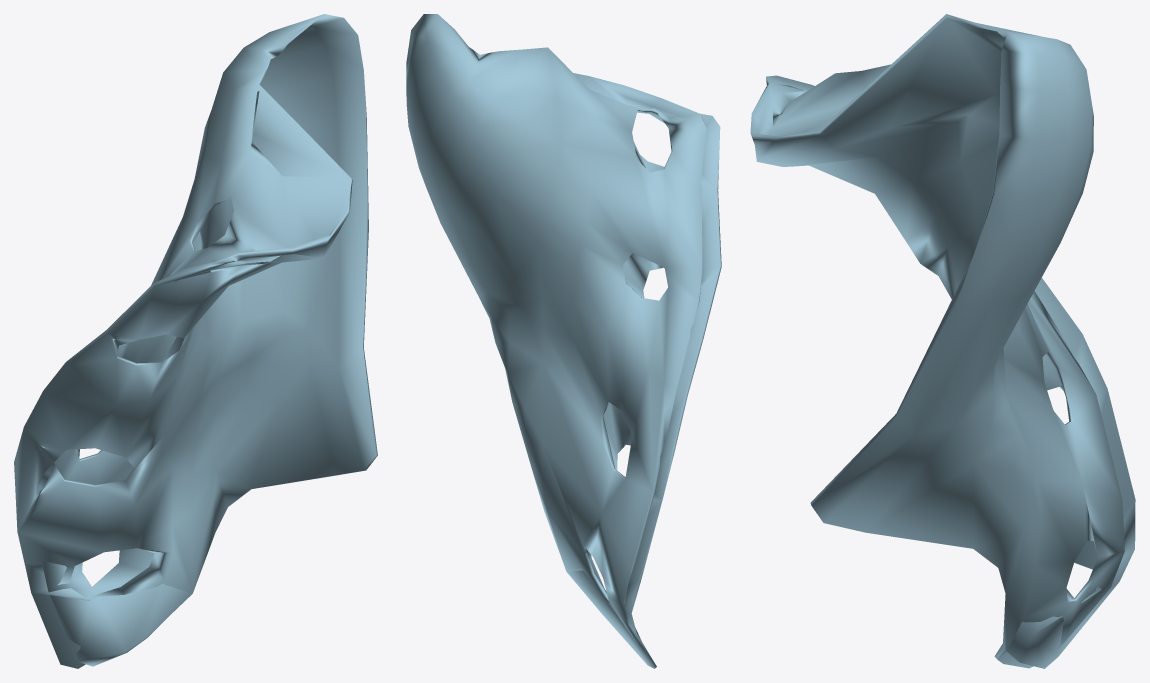
Rendered from articulacoes-posterior-sacro-iliac-ligament-l.glb.
3 views of the same model, side by side, from view 1: azimuth 30°, elevation 25°; view 2: azimuth 150°, elevation 25°; view 3: azimuth 270°, elevation 25° (orthographic). The views are drawn at different scales.
Parts seen in each view (by area): view 1: Posterior sacro-iliac ligament.l; view 2: Posterior sacro-iliac ligament.l; view 3: Posterior sacro-iliac ligament.l.
Boxes of the visible parts, x1,y1,x2,y2 form: Posterior sacro-iliac ligament.l: [14, 14, 377, 668]; Posterior sacro-iliac ligament.l: [406, 14, 721, 668]; Posterior sacro-iliac ligament.l: [750, 14, 1135, 668].
Bounding box in the file's own units: 0.0507 × 0.0951 × 0.0424.
